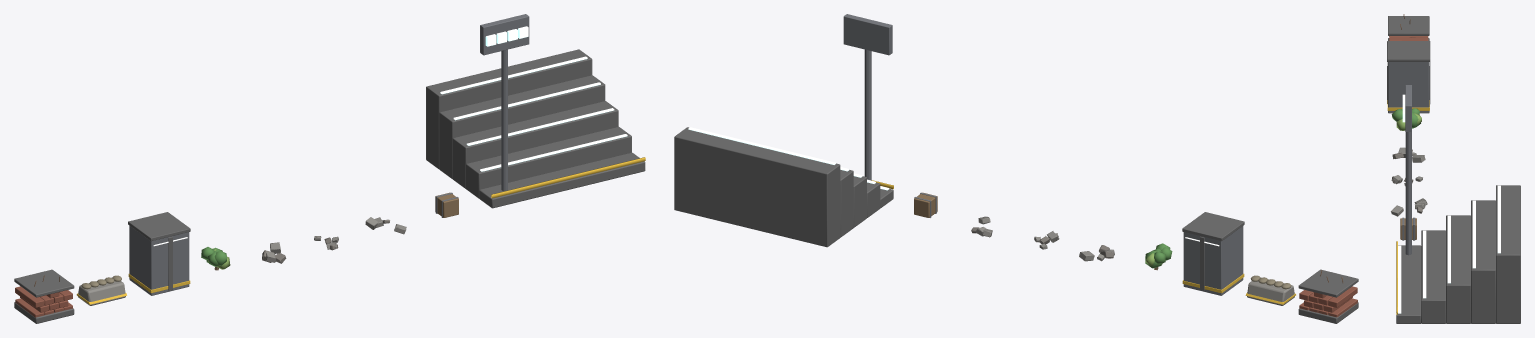
The model's file is props.glb.
3 views of the same model, side by side, from view 1: azimuth 30°, elevation 25°; view 2: azimuth 150°, elevation 25°; view 3: azimuth 270°, elevation 25° (orthographic). The views are drawn at different scales.
Visible parts, largest first — view 1: Grandstand, OuterWall, FloodTower, Wall, LowWall, Crate, Bush; view 2: Grandstand, OuterWall, FloodTower, Wall, LowWall, Crate; view 3: Grandstand, OuterWall, FloodTower, Wall, Bush, Crate, Rubble2, Rubble0, Rubble1.
Part boxes in pixels (<box>): Grandstand: <box>426,49,645,208</box>; OuterWall: <box>128,212,190,295</box>; FloodTower: <box>480,14,529,190</box>; Wall: <box>14,269,74,323</box>; LowWall: <box>76,275,126,305</box>; Crate: <box>435,192,458,217</box>; Bush: <box>201,247,230,270</box>; Grandstand: <box>674,127,893,247</box>; OuterWall: <box>1182,212,1244,295</box>; FloodTower: <box>843,14,892,180</box>; Wall: <box>1298,269,1358,323</box>; LowWall: <box>1245,275,1295,305</box>; Crate: <box>914,192,937,217</box>; Grandstand: <box>1396,185,1520,323</box>; OuterWall: <box>1387,41,1430,113</box>; FloodTower: <box>1402,85,1411,255</box>; Wall: <box>1388,14,1429,40</box>; Bush: <box>1391,108,1421,130</box>; Crate: <box>1400,217,1416,240</box>; Rubble2: <box>1391,198,1427,216</box>; Rubble0: <box>1392,147,1425,162</box>; Rubble1: <box>1391,175,1422,186</box>.
Size of the model in its own units: 16 by 4.54 by 3.22.
